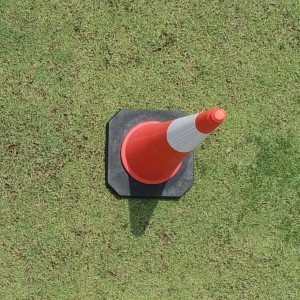traffic cone: (105, 107, 225, 199)
